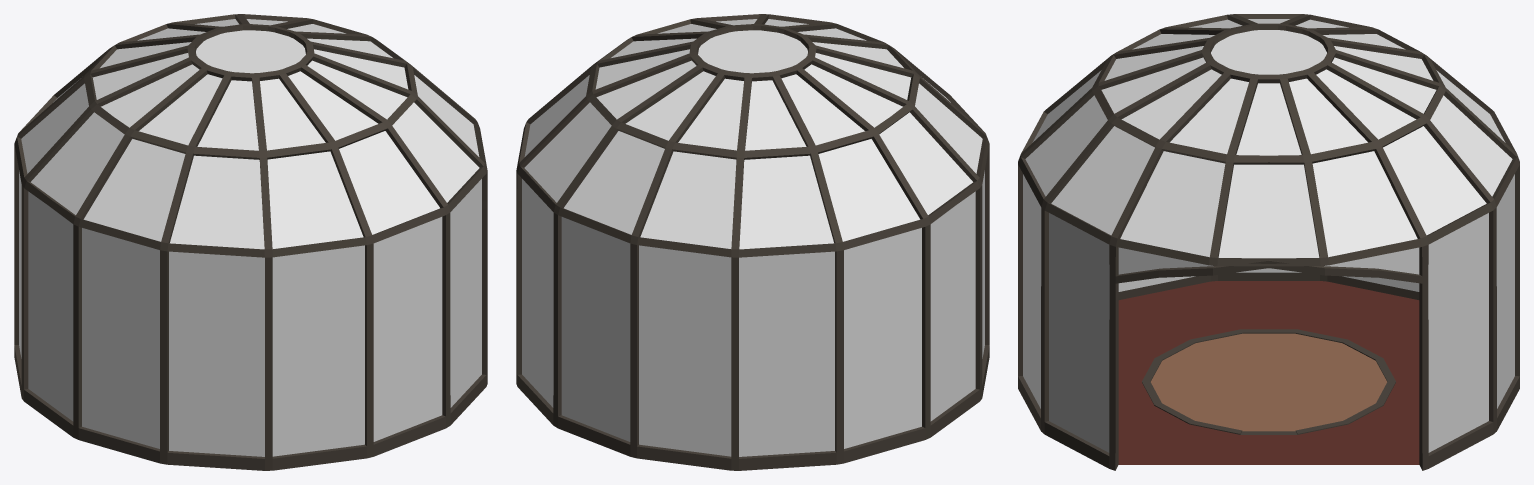
File: 02_Domo.fbx
The picture shows the model from 3 angles, left to right: view 1: azimuth 30°, elevation 25°; view 2: azimuth 150°, elevation 25°; view 3: azimuth 270°, elevation 25°; orthographic projection. The views are drawn at different scales.
Parts seen in each view (by area): view 1: 02_Domo; view 2: 02_Domo; view 3: 02_Domo.
Part boxes in pixels (x1=…): 02_Domo: x1=14, y1=14, x2=487, y2=470; 02_Domo: x1=516, y1=14, x2=989, y2=470; 02_Domo: x1=1018, y1=14, x2=1519, y2=470.
Size of the model in its own units: 5735 by 4346 by 5862.
